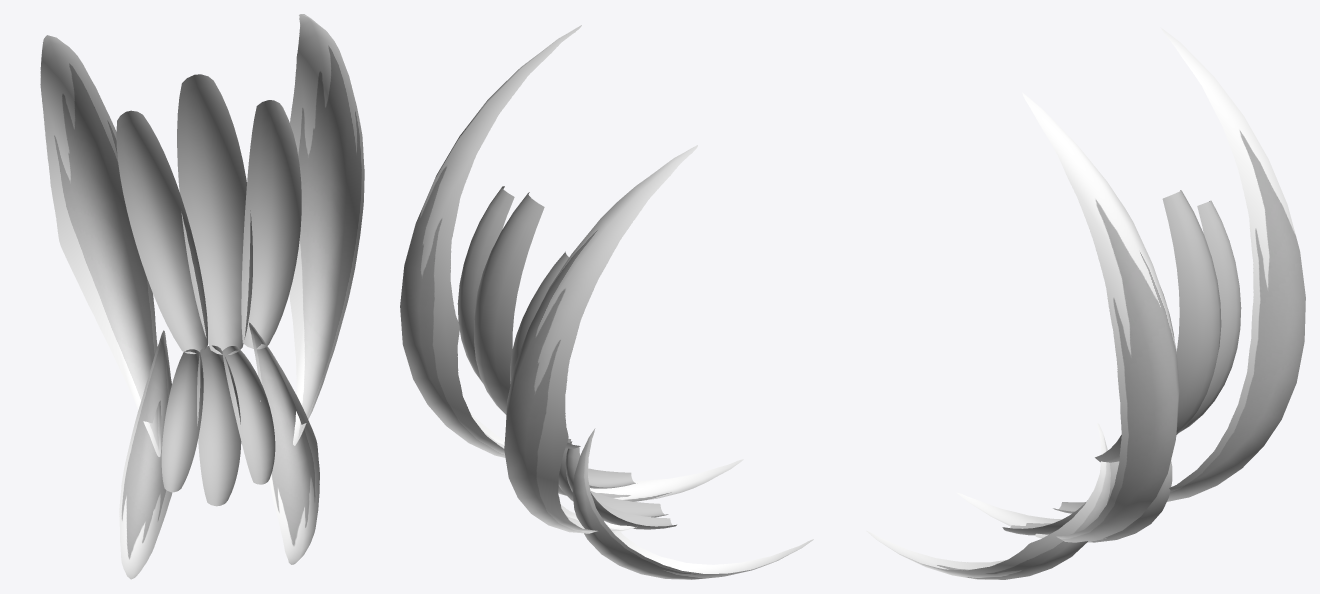
Rendered from fx_m10115_skill01.fbx.
3 renders of one model, left to right at view 1: azimuth 30°, elevation 25°; view 2: azimuth 150°, elevation 25°; view 3: azimuth 270°, elevation 25°, orthographic. The views are drawn at different scales.
Visible parts, largest first — view 1: trail_alpha_out, trail_alpha, trail_bottom_out_alpha, trail_bottom_alpha; view 2: trail_alpha_out, trail_alpha, trail_bottom_out_alpha, trail_bottom_alpha; view 3: trail_alpha_out, trail_alpha, trail_bottom_out_alpha, trail_bottom_alpha.
Boxes of the visible parts, x1,y1,x2,y2 form: trail_alpha_out: (40,14,364,456); trail_alpha: (116,74,301,354); trail_bottom_out_alpha: (119,322,319,579); trail_bottom_alpha: (161,345,275,506); trail_alpha_out: (400,25,697,533); trail_alpha: (457,186,580,448); trail_bottom_out_alpha: (558,428,813,579); trail_bottom_alpha: (558,438,676,529); trail_alpha_out: (1022,27,1305,542); trail_alpha: (1095,190,1241,462); trail_bottom_out_alpha: (866,423,1172,579); trail_bottom_alpha: (1002,461,1119,535).
Bounding box in the file's own units: 330 × 490 × 381.
